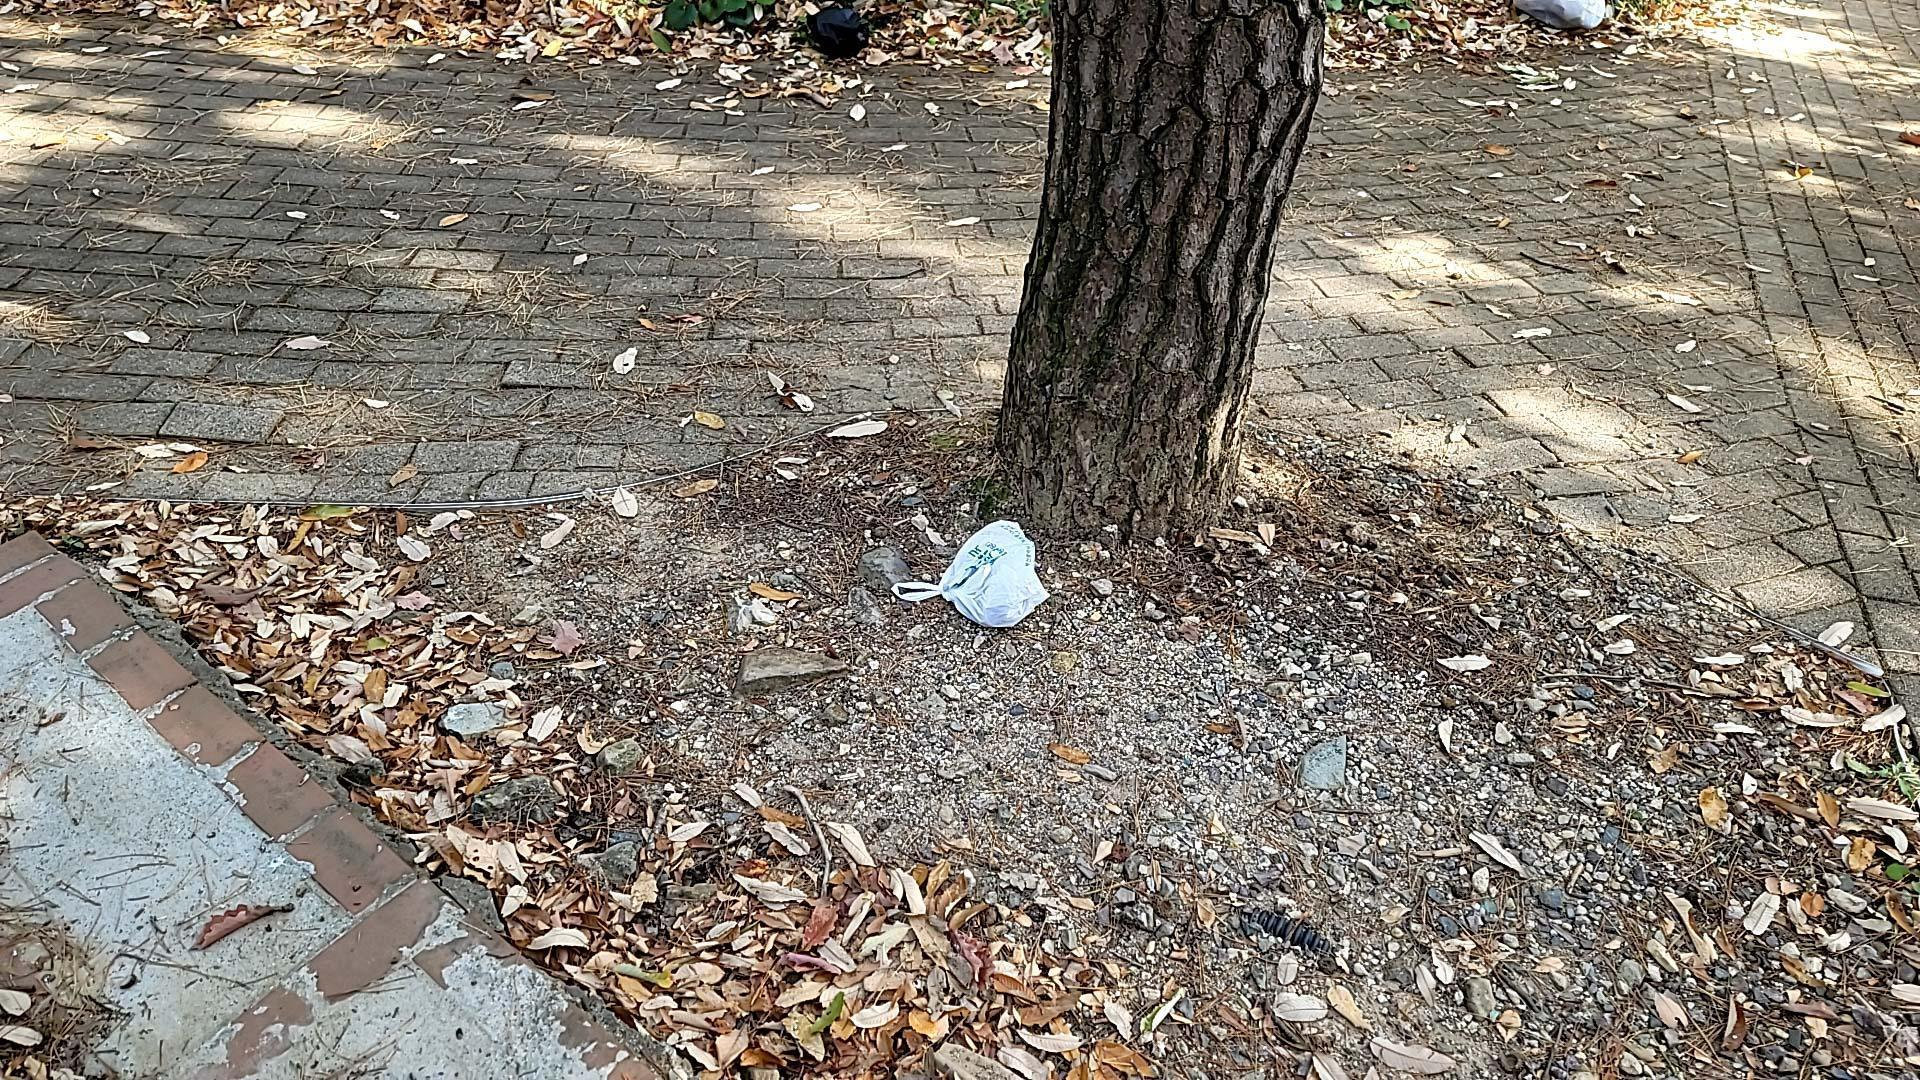white_bag: (885, 506, 1052, 636)
